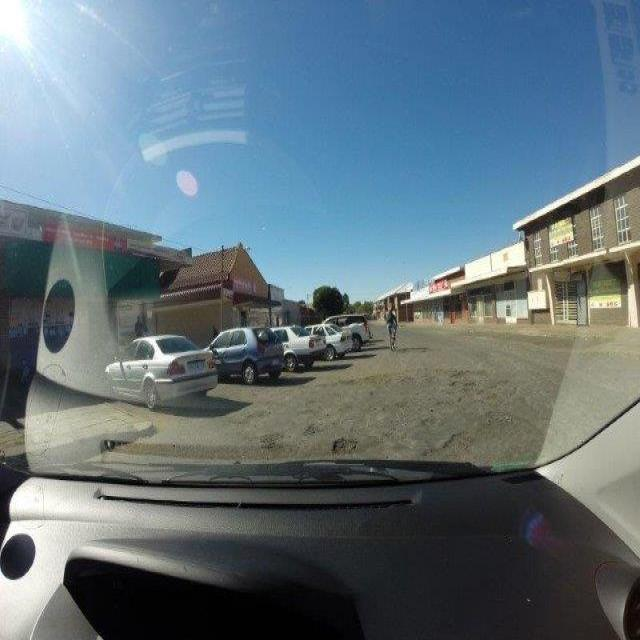jalan retak: (349, 394, 454, 456), (228, 404, 282, 436), (478, 378, 528, 403), (314, 369, 361, 392)
lubang: (461, 402, 543, 452), (439, 429, 477, 460), (250, 429, 286, 459), (325, 432, 361, 457), (354, 370, 397, 390), (442, 369, 487, 388)
